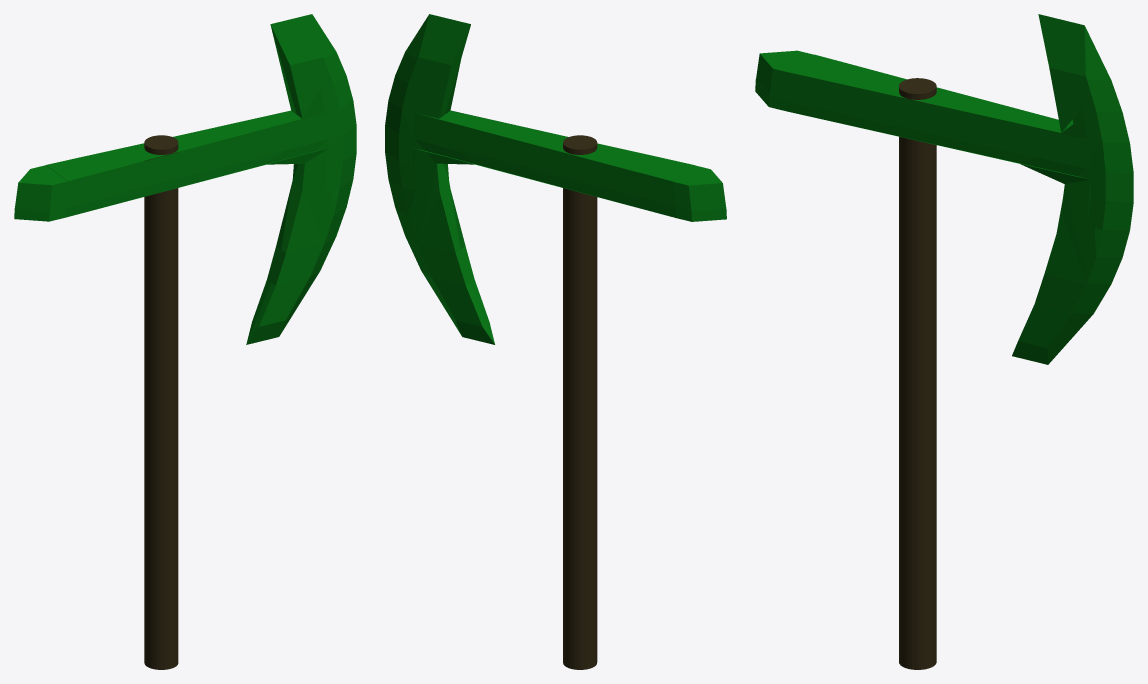
The model's file is Hacha.glb.
The picture shows the model from 3 angles, left to right: view 1: azimuth 30°, elevation 25°; view 2: azimuth 150°, elevation 25°; view 3: azimuth 330°, elevation 25°; orthographic projection. The views are drawn at different scales.
Parts seen in each view (by area): view 1: Cube, Cilindro; view 2: Cube, Cilindro; view 3: Cube, Cilindro.
Part boxes in pixels (left/top/right/bottom): Cube: left=14, top=14, right=356, bottom=344; Cilindro: left=144, top=135, right=178, bottom=669; Cube: left=385, top=14, right=726, bottom=344; Cilindro: left=563, top=135, right=597, bottom=669; Cube: left=755, top=14, right=1133, bottom=364; Cilindro: left=899, top=78, right=936, bottom=669.
Bounding box in the file's own units: 1.39 × 2.37 × 0.1599.
